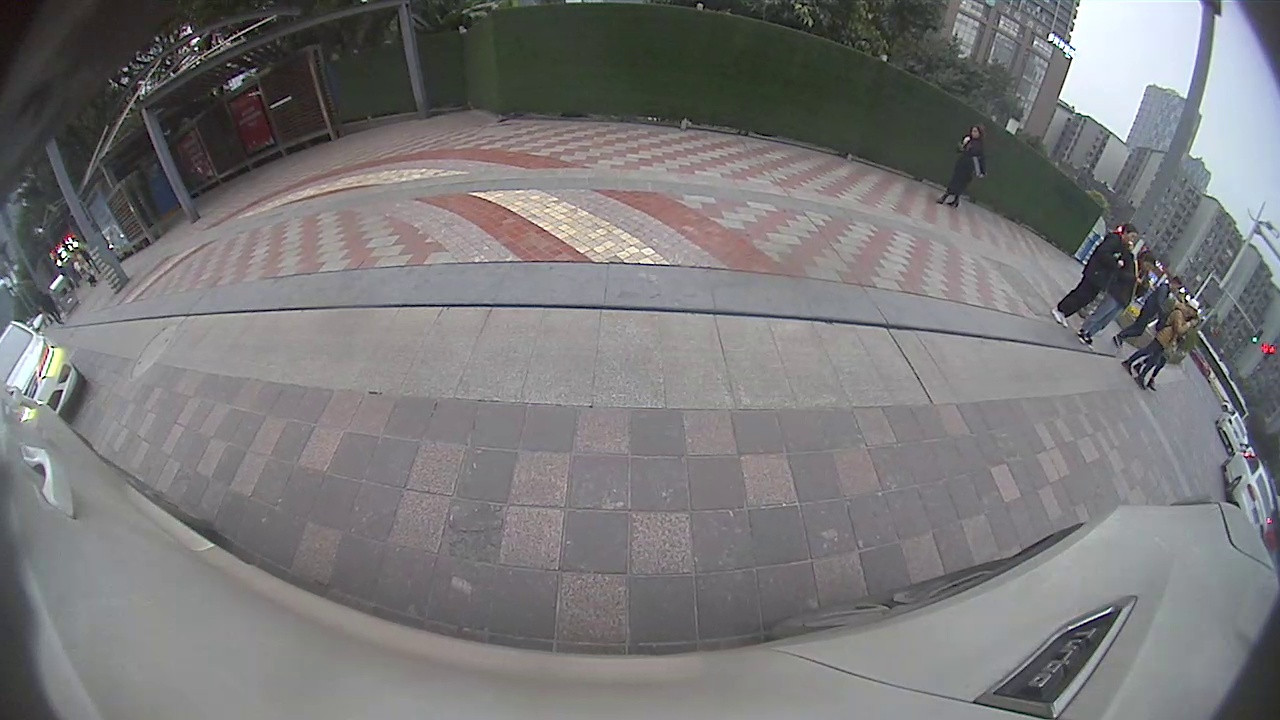car: (2, 312, 89, 416)
person: (1059, 223, 1139, 330), (948, 124, 987, 206)
